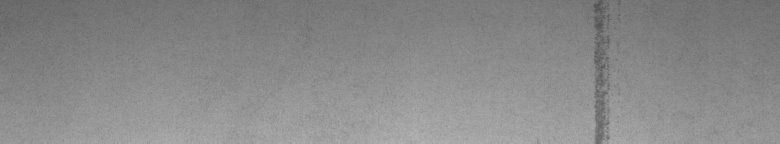hd: (589, 4, 620, 136)
